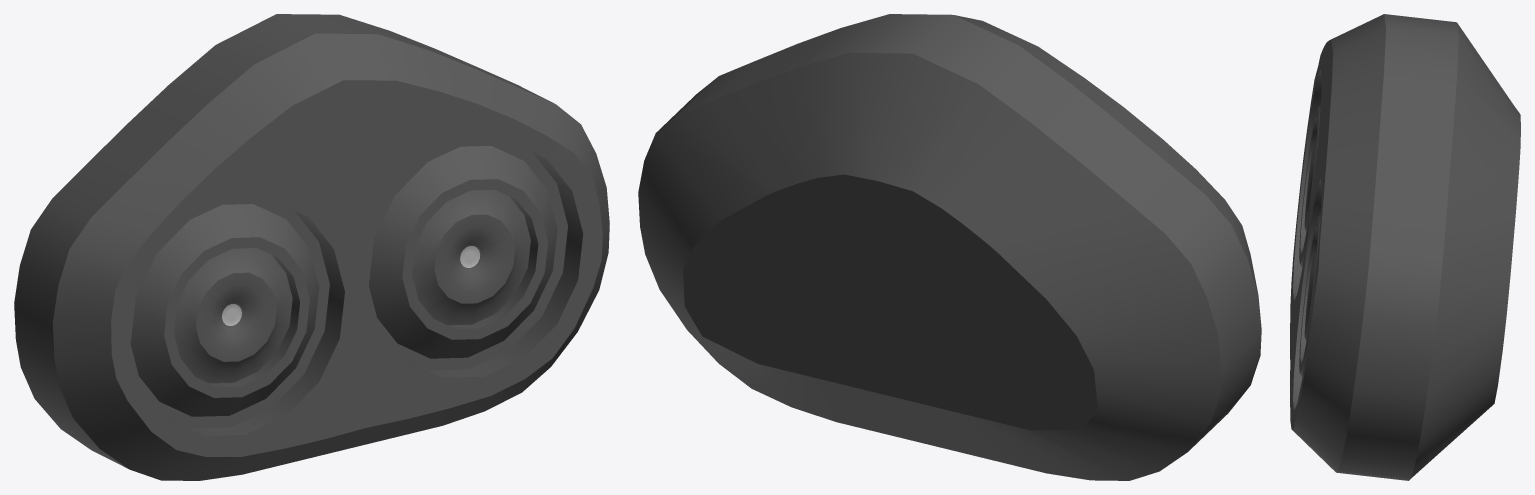
File: cycle-horn.gltf
3 renders of one model, left to right at view 1: azimuth 30°, elevation 25°; view 2: azimuth 150°, elevation 25°; view 3: azimuth 270°, elevation 25°, orthographic. The views are drawn at different scales.
Parts seen in each view (by area): view 1: Horn; view 2: Horn; view 3: Horn.
Boxes of the visible parts, x1,y1,x2,y2 form: Horn: [14, 14, 609, 480]; Horn: [638, 14, 1261, 480]; Horn: [1290, 14, 1520, 480].
Bounding box in the file's own units: 0.1809 × 0.1262 × 0.0691.
1 material, 1 textured.
